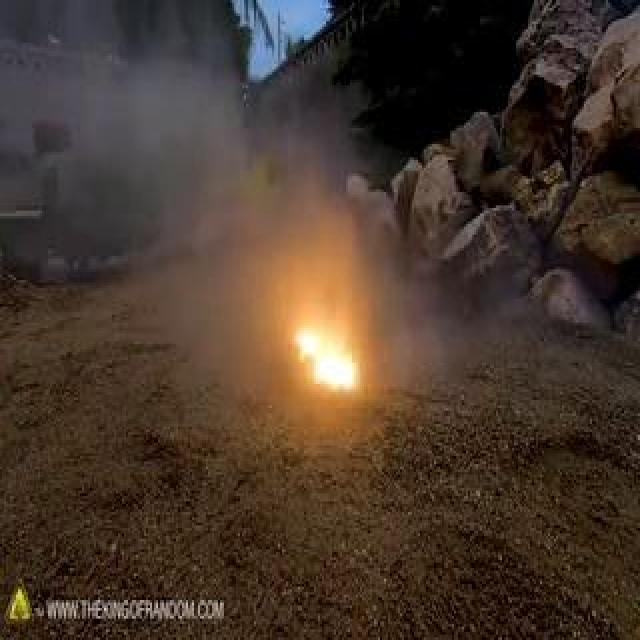Fire: (90, 130, 333, 330)
